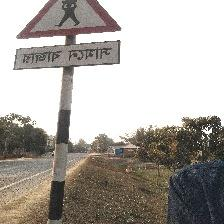Market-in-front: (13, 0, 123, 70), (17, 4, 122, 68)
